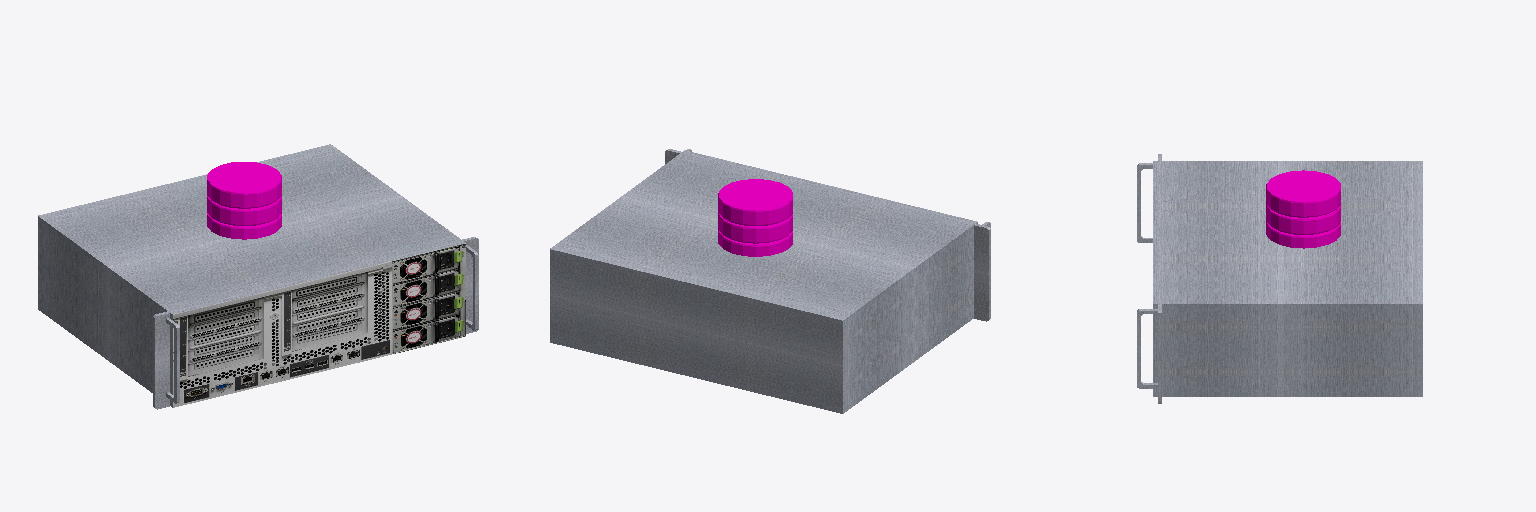
3 renders of one model, left to right at view 1: azimuth 30°, elevation 25°; view 2: azimuth 150°, elevation 25°; view 3: azimuth 270°, elevation 25°, orthographic.
Visible parts, largest first — view 1: FW_DB; view 2: FW_DB; view 3: FW_DB.
Boxes of the visible parts, x1=… form: FW_DB: x1=38, y1=144, x2=478, y2=409; FW_DB: x1=550, y1=149, x2=990, y2=413; FW_DB: x1=1137, y1=154, x2=1422, y2=403.
Size of the model in its own units: 2.01 by 0.829 by 1.54.
Materials: 3 (2 with a texture image).